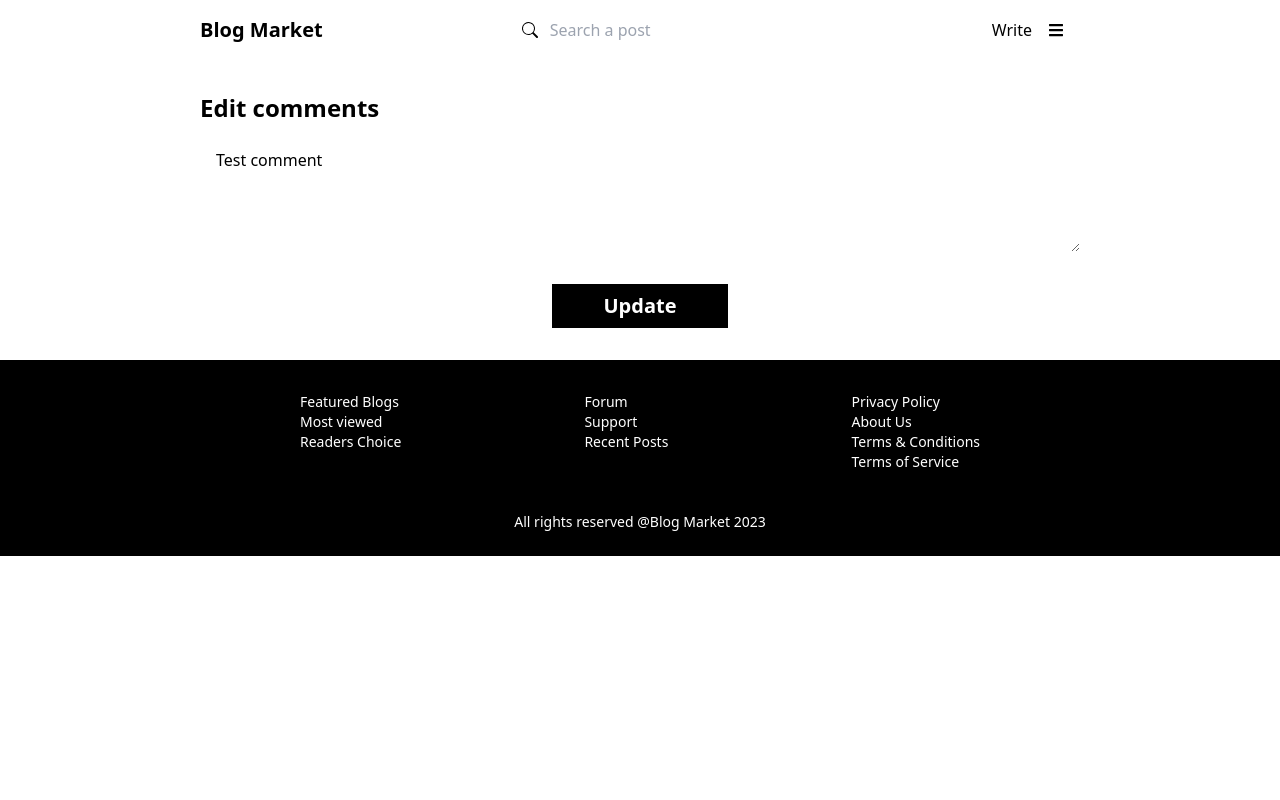
Scenario: Testing Edit Comment page UI › handles update error correctly
Replace the text in the text box with placeholder "Enter comment text" with "Updated comment text": (640, 196) [200,140,1080,252]
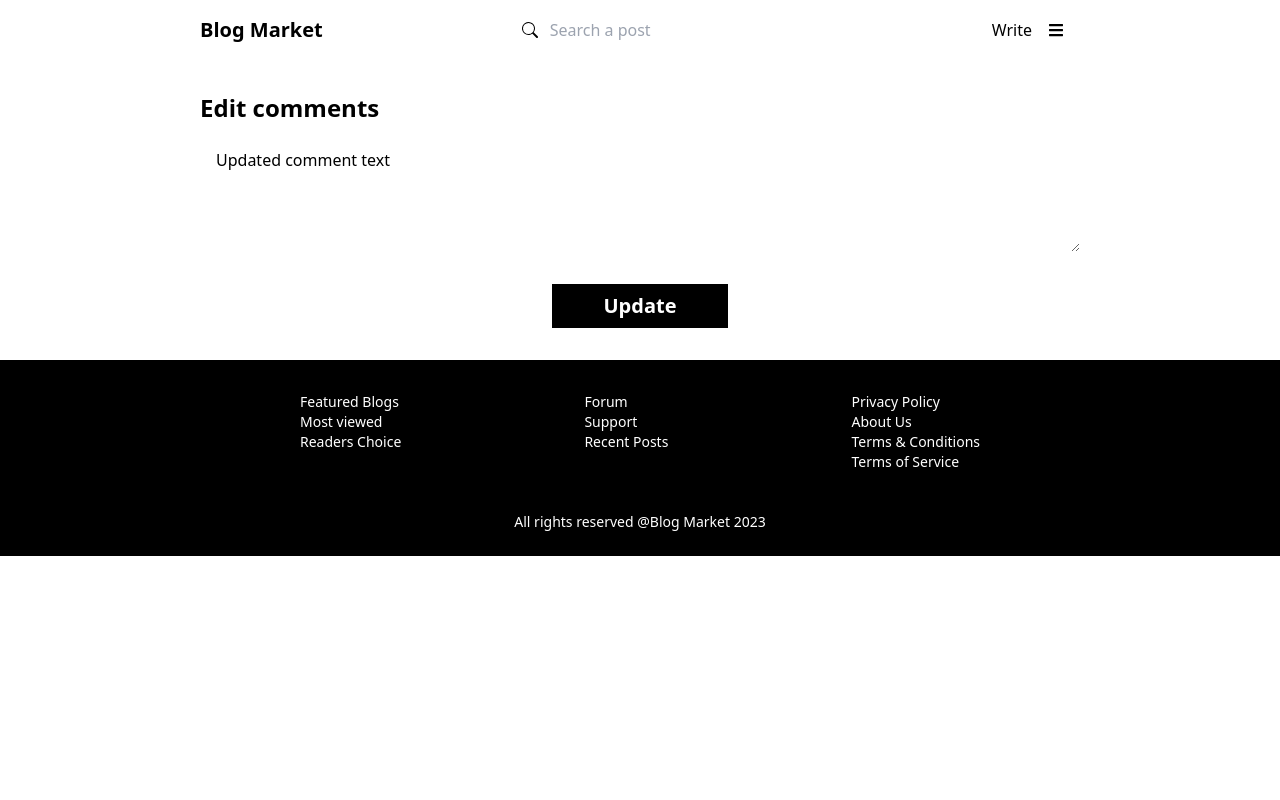
Click the button "Update": (640, 306) [552,284,728,328]
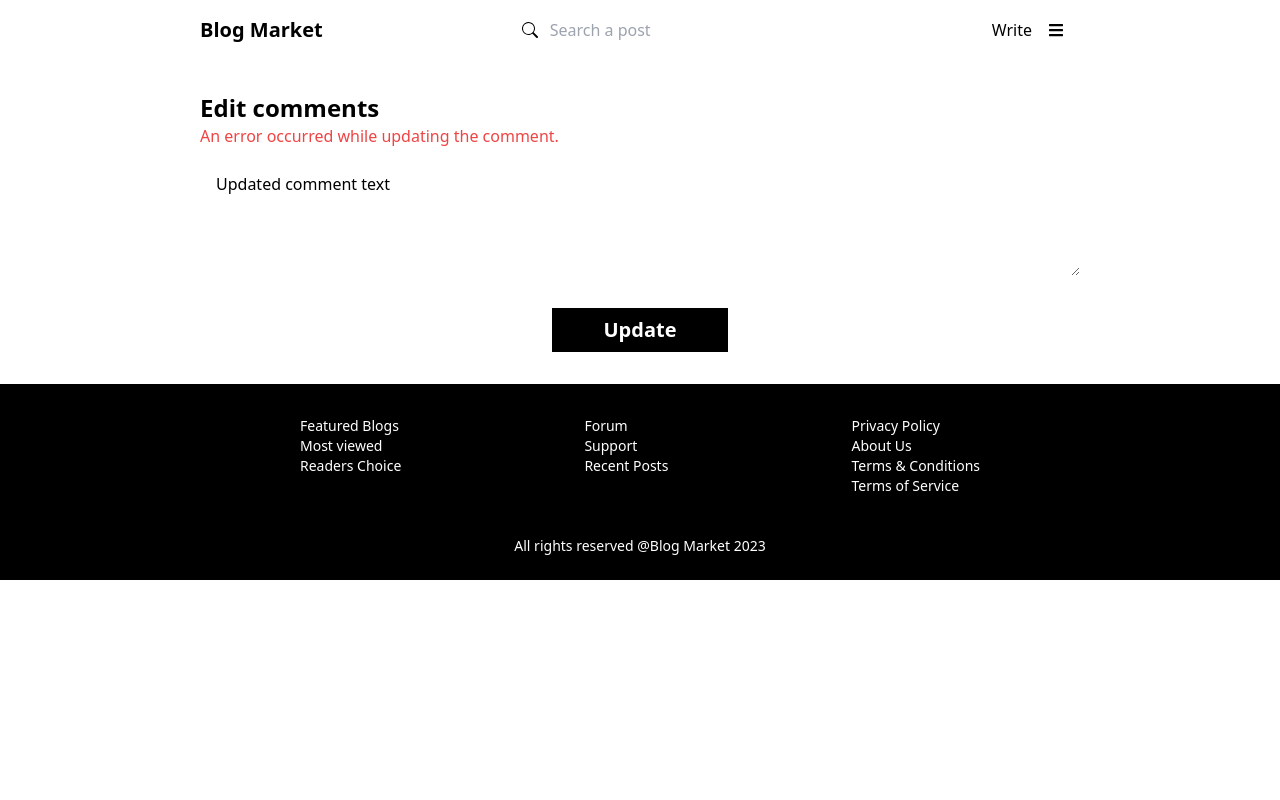
Check: the text "An error occurred while updating the comment." is shown, box [200,125,559,147]
